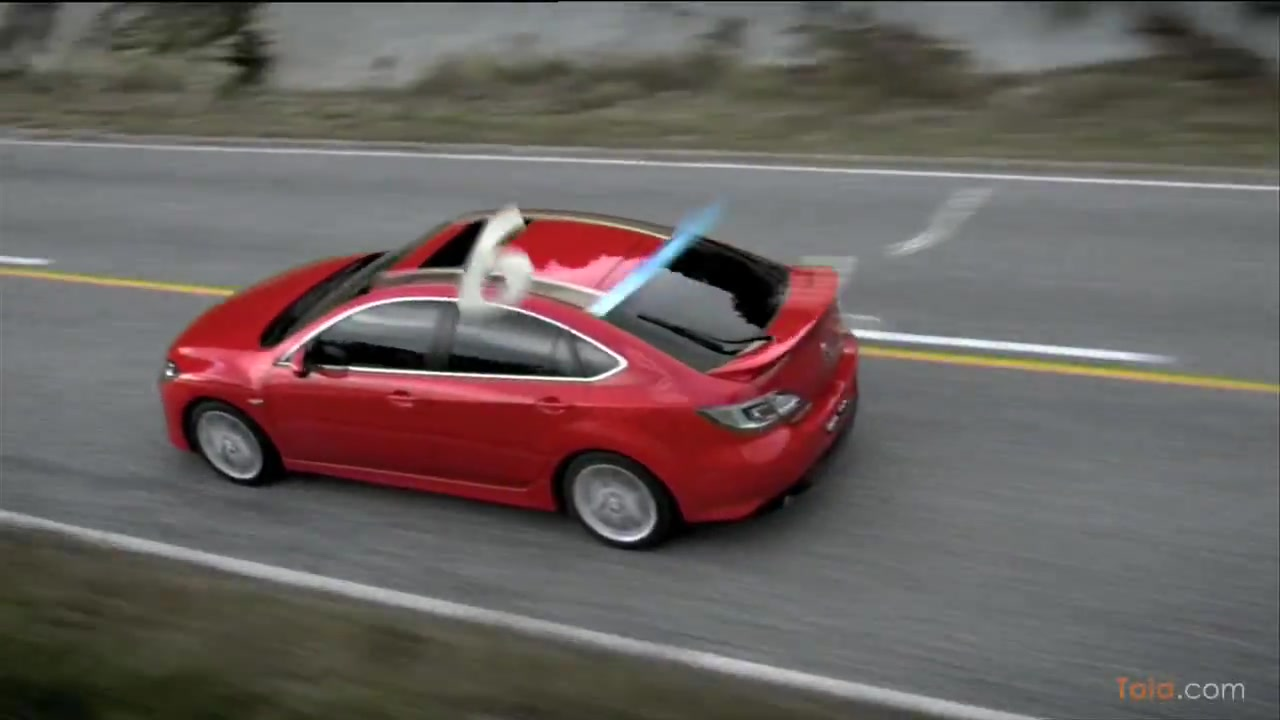car: (151, 205, 867, 560)
